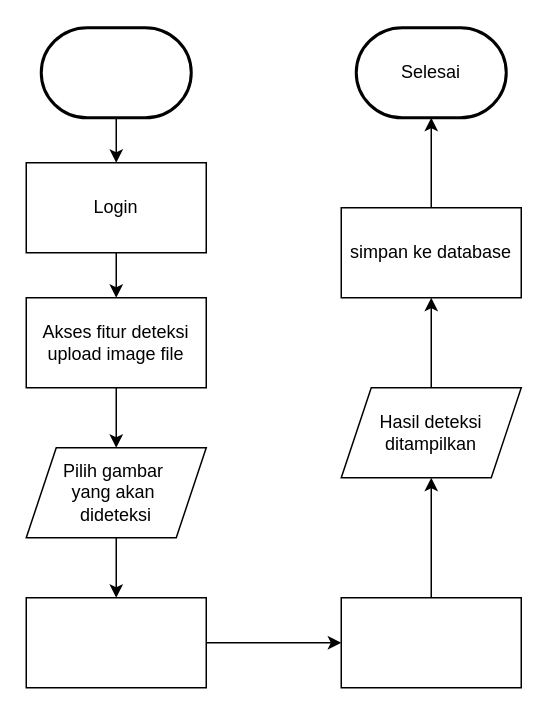
Image size: 548x714. Some labels were removed from this diagram. The centre of each missing label's shape, as x and y in pixels:
"Model mendeteksi jenis penyakit daun" goes at pixel 430 642.
"Mulai" goes at pixel 115 72.
"Sistem memproses gambar input" goes at pixel 115 642.
